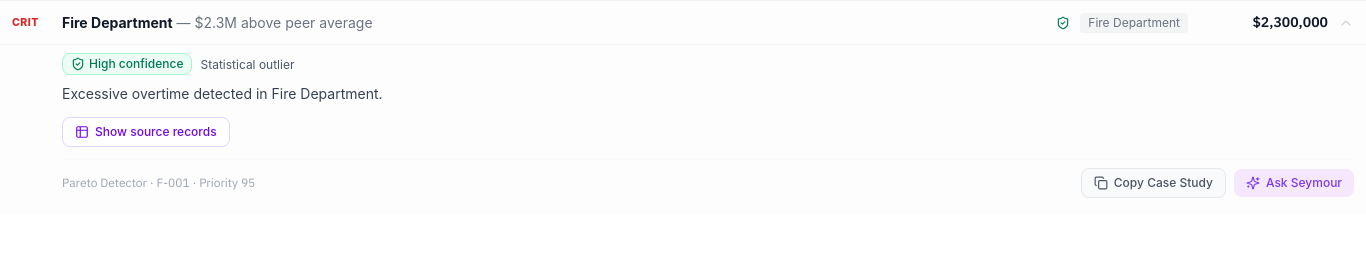
Test: WasteFindingCard › shows error message when fetch fails
The image size is (1366, 257).
Click the button "Show source records" at (146, 132), box [62,117,230,147]
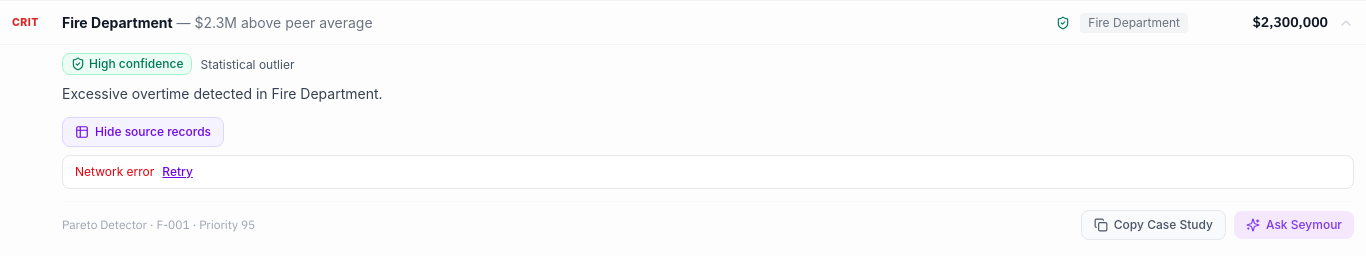
Expected: the text "Network error" is shown, [75,164,154,180]
